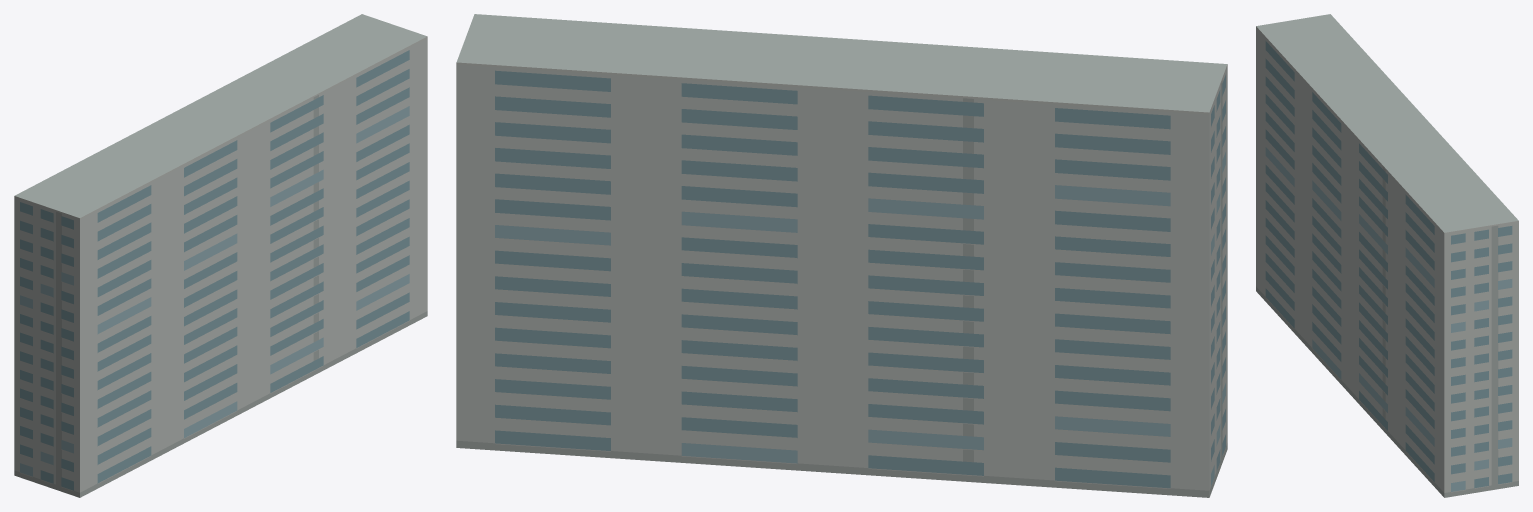
Rendered from residential-8b7e1fa4-95cf-4470-aeff-d23712dbc6af.glb.
3 renders of one model, left to right at view 1: azimuth 30°, elevation 25°; view 2: azimuth 150°, elevation 25°; view 3: azimuth 270°, elevation 25°, orthographic. The views are drawn at different scales.
Visible parts, largest first — view 1: residential-8b7e1fa4-95cf-4470-aeff-d23712dbc6af.tmp; view 2: residential-8b7e1fa4-95cf-4470-aeff-d23712dbc6af.tmp; view 3: residential-8b7e1fa4-95cf-4470-aeff-d23712dbc6af.tmp.
Boxes of the visible parts, x1=… form: residential-8b7e1fa4-95cf-4470-aeff-d23712dbc6af.tmp: x1=14, y1=14, x2=427, y2=497; residential-8b7e1fa4-95cf-4470-aeff-d23712dbc6af.tmp: x1=456, y1=14, x2=1227, y2=497; residential-8b7e1fa4-95cf-4470-aeff-d23712dbc6af.tmp: x1=1256, y1=14, x2=1518, y2=497.
Size of the model in its own units: 81.02 by 45.75 by 41.13.
